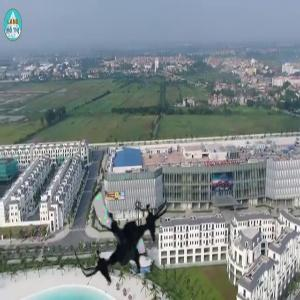drone: (65, 171, 180, 286)
